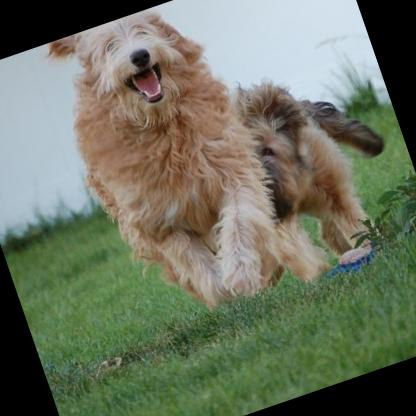briard: (35, 0, 416, 341)
